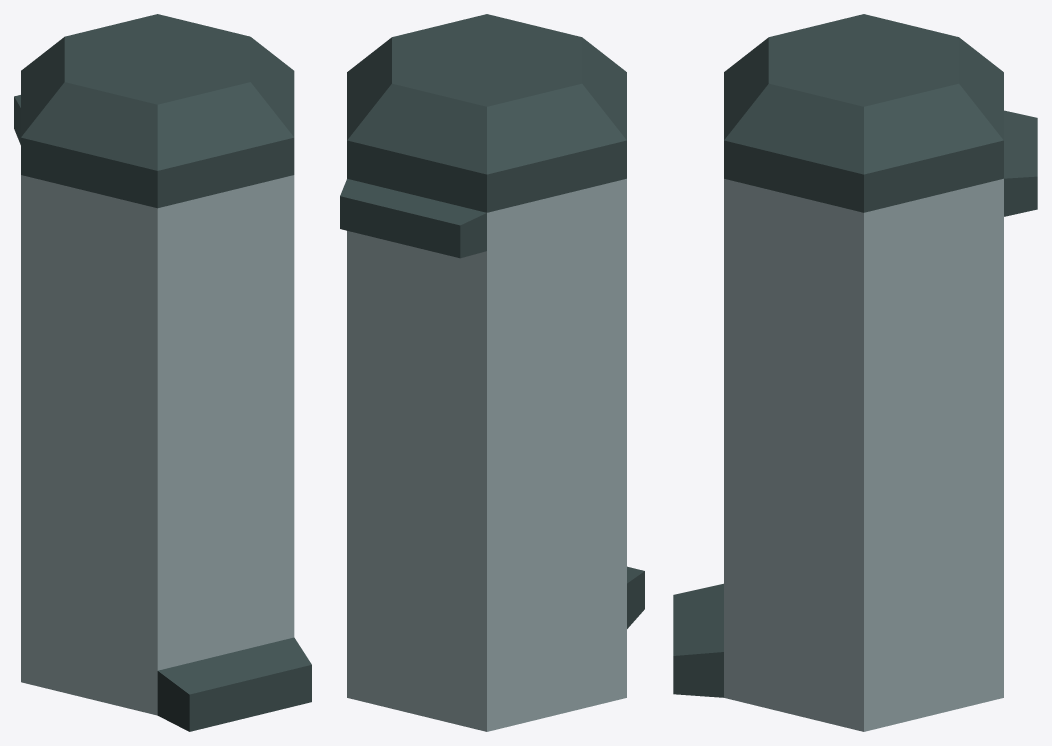
Rendered from furn_trashcan.glb.
The picture shows the model from 3 angles, left to right: view 1: azimuth 30°, elevation 25°; view 2: azimuth 150°, elevation 25°; view 3: azimuth 270°, elevation 25°; orthographic projection. The views are drawn at different scales.
Visible parts, largest first — view 1: trashcan(Clone); view 2: trashcan(Clone); view 3: trashcan(Clone).
Part boxes in pixels (bbox=[...]): trashcan(Clone): bbox=[14, 14, 311, 731]; trashcan(Clone): bbox=[340, 14, 644, 731]; trashcan(Clone): bbox=[673, 14, 1037, 731].
Bounding box in the file's own units: 0.2077 × 0.4279 × 0.2341.
